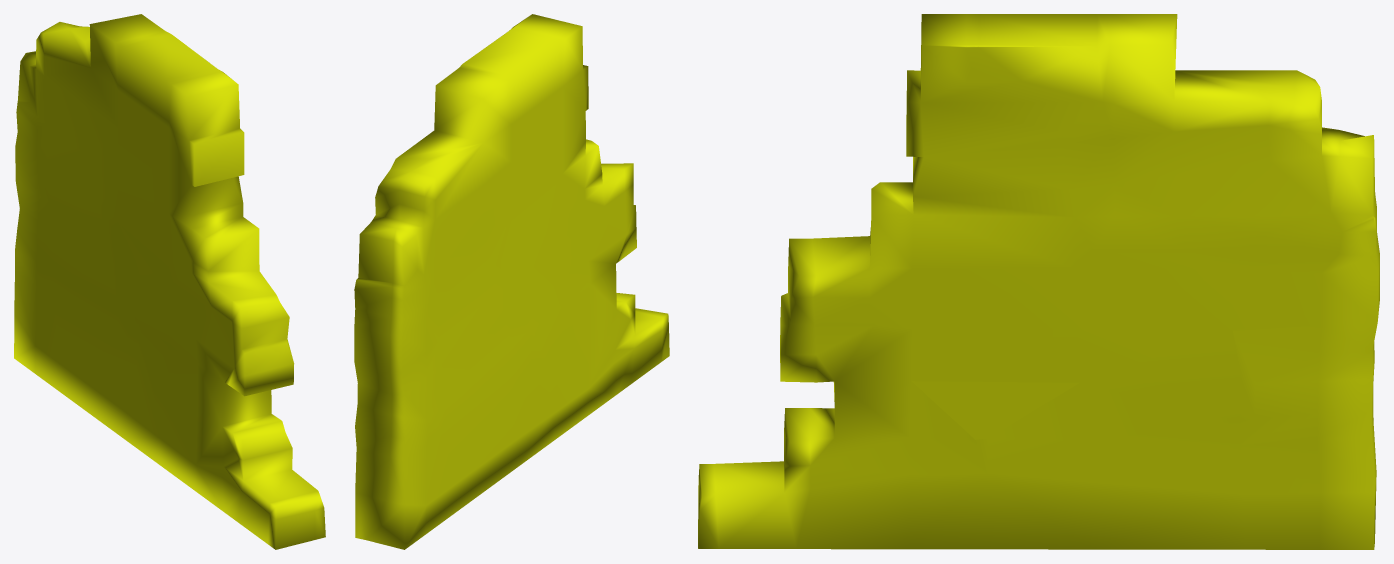
File: Wall_Break_01A_Lod0.fbx
3 renders of one model, left to right at view 1: azimuth 30°, elevation 25°; view 2: azimuth 150°, elevation 25°; view 3: azimuth 270°, elevation 25°, orthographic. The views are drawn at different scales.
Parts seen in each view (by area): view 1: Wall_Break_01A_Lod0; view 2: Wall_Break_01A_Lod0; view 3: Wall_Break_01A_Lod0.
Boxes of the visible parts, x1,y1,x2,y2 form: Wall_Break_01A_Lod0: (14, 14, 325, 549); Wall_Break_01A_Lod0: (354, 14, 669, 549); Wall_Break_01A_Lod0: (698, 14, 1379, 549).
Bounding box in the file's own units: 175 × 1220 × 1495.
